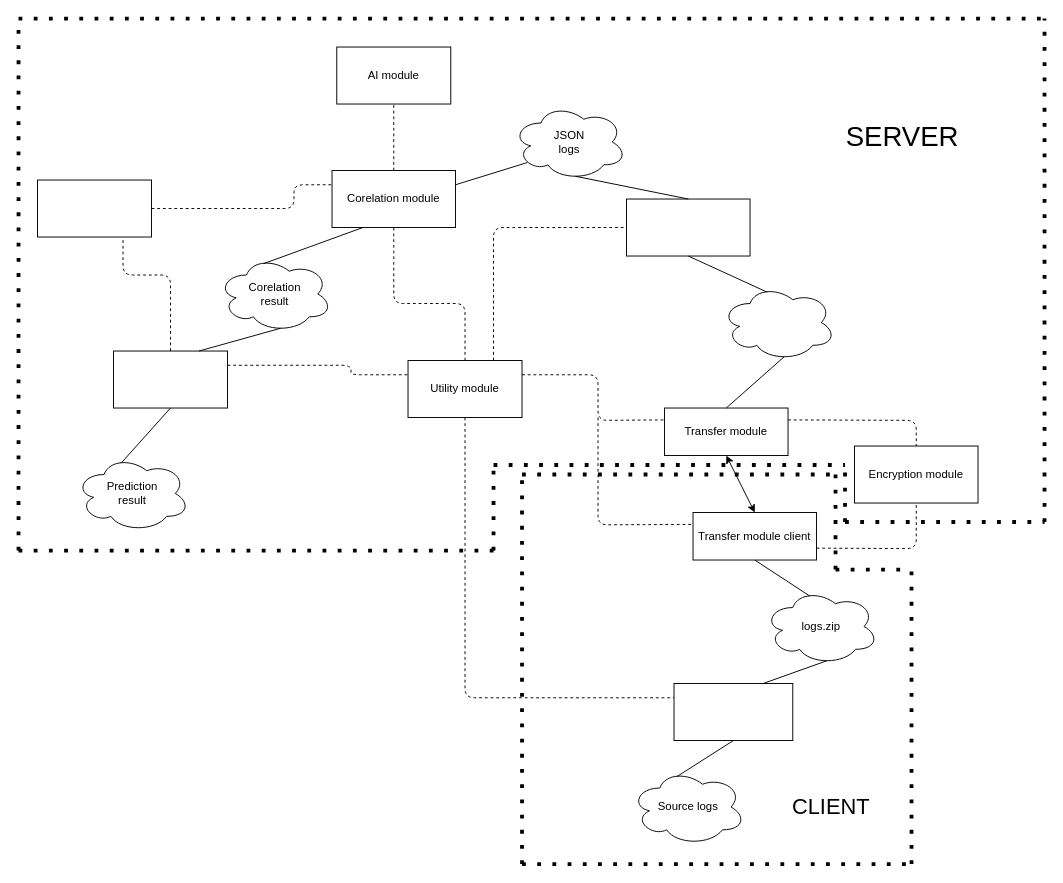
The diagram is 1063 pixels wide and 883 high, and some of its shapes have lost their labels. Each missing label, with the centre of its shape:
Agregation module: the point at 688,227
Agregation module client: the point at 733,712
API module: the point at 94,208
Prediction module: the point at 170,379
Transferred logs: the point at 778,322
